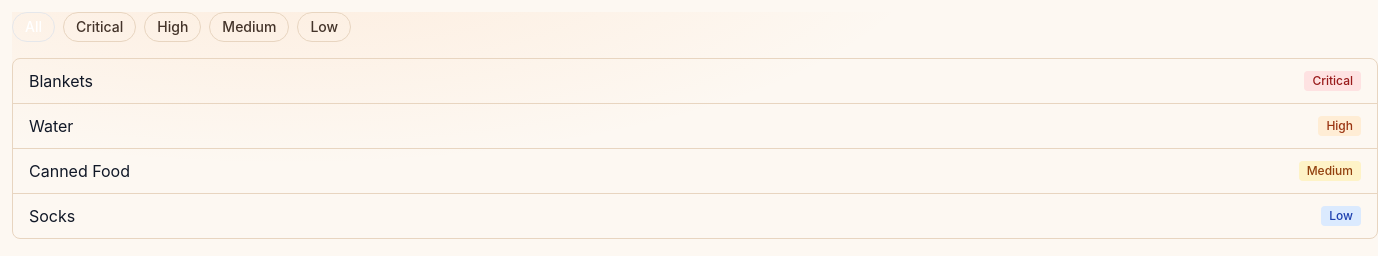
Scenario: NeedsFilter › filters list to only High items when "High" is selected
Click the button "High" at (173, 27), box [144,12,201,42]
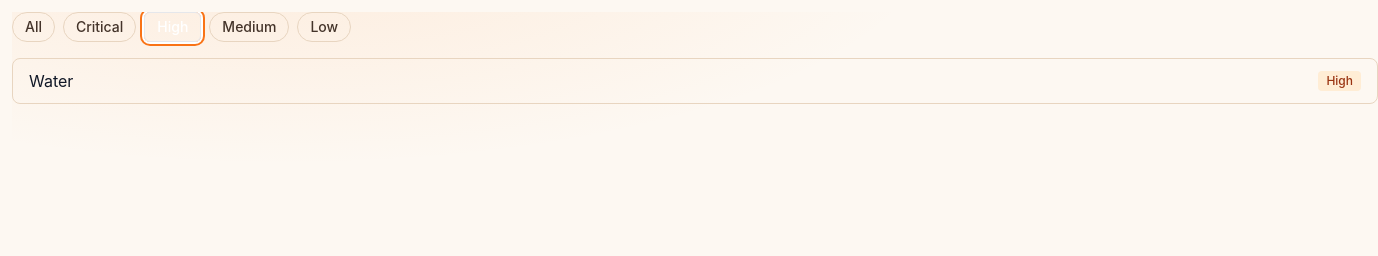
Expected: the text "water" is shown, [29,69,73,93]
Now the text "blankets" is gone
